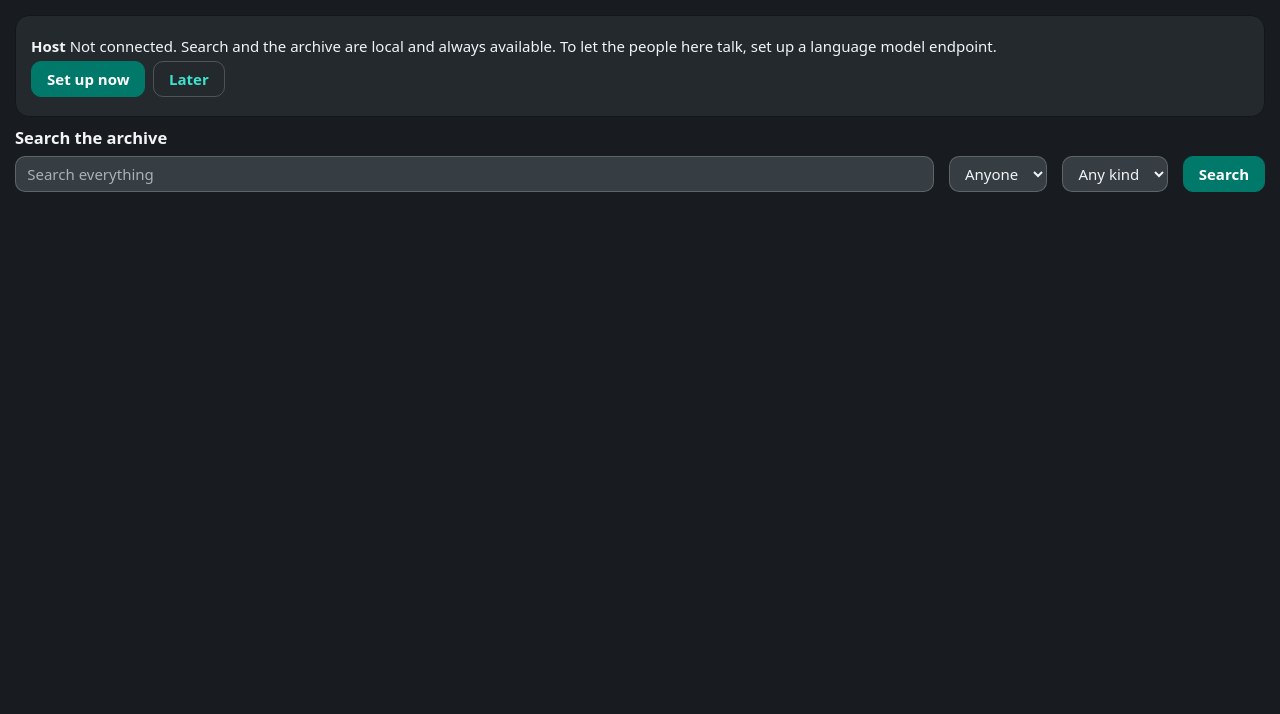
thirty hits at first, thirty more on request
Type "lantern" into the search field at (474, 174), box [15, 156, 934, 192]
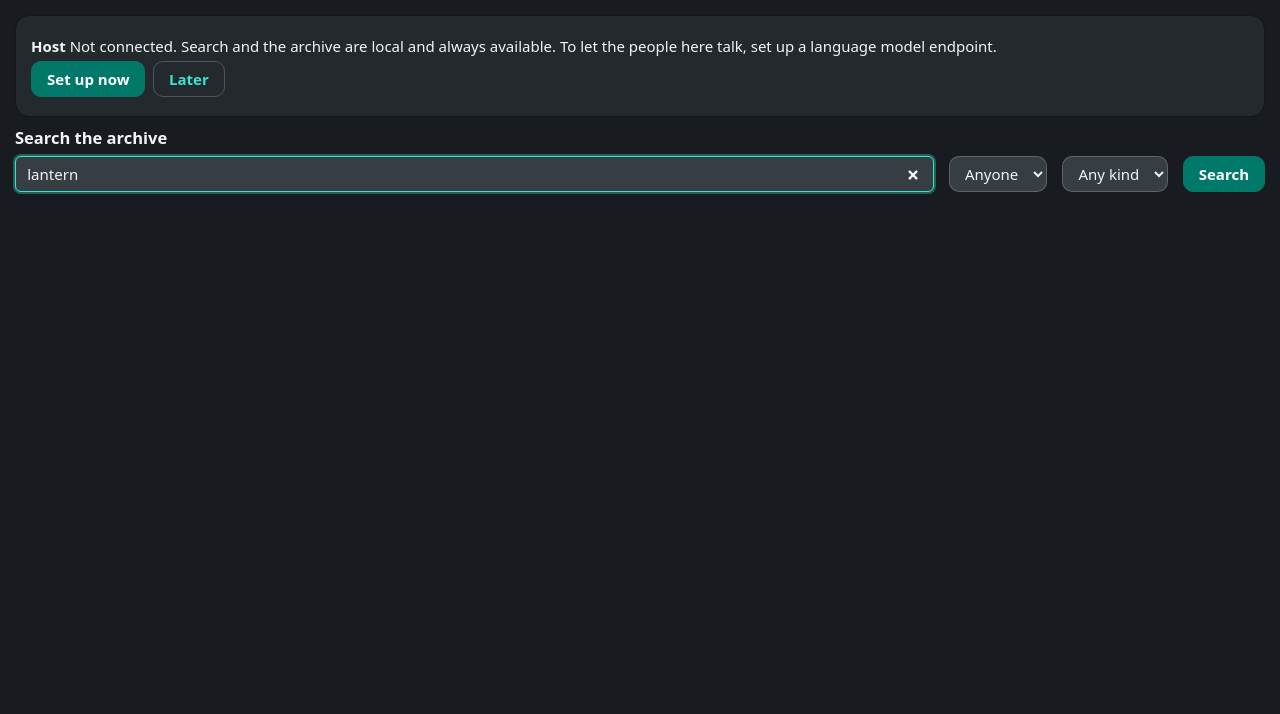
Click the button "Search" at (1224, 174), box [1183, 156, 1265, 192]
(page scrolled)
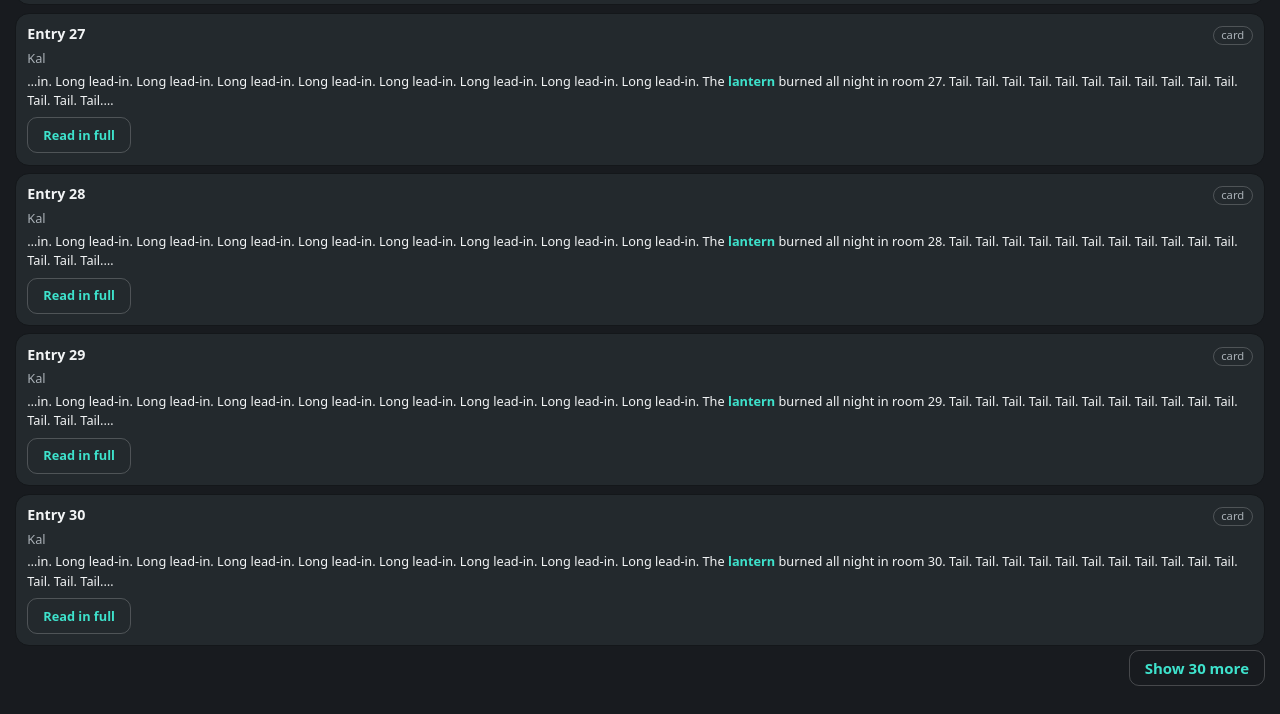
Click the button "Show 30 more" at (1197, 668), box [1129, 650, 1265, 686]
(page scrolled)
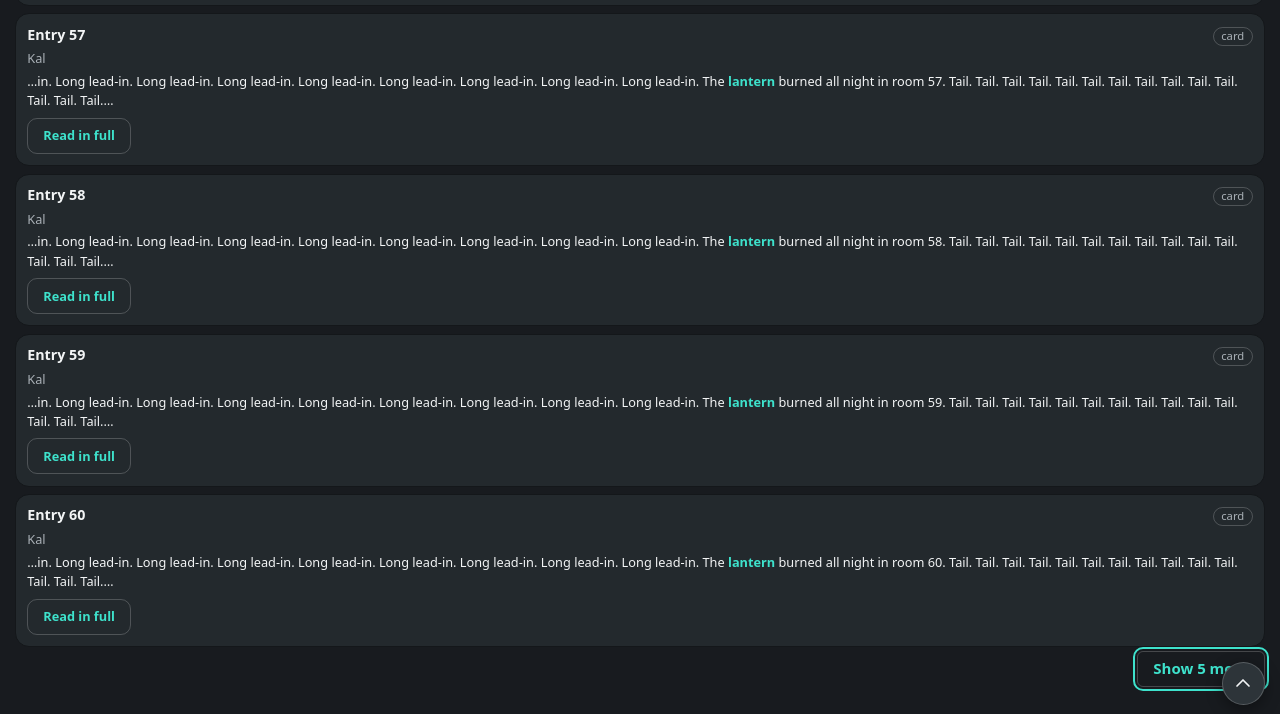
Click the button "Show 5 more" at (1201, 669), box [1137, 651, 1265, 687]
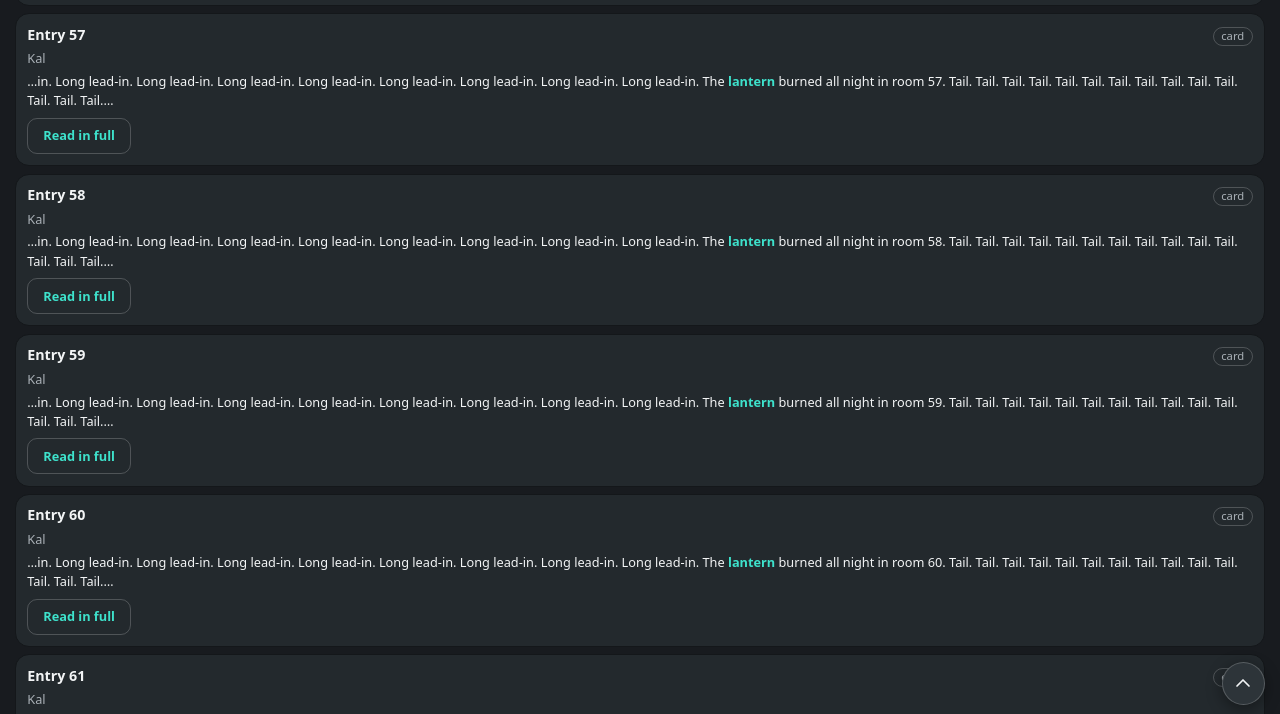
Now the button "Show 5 more" is gone
